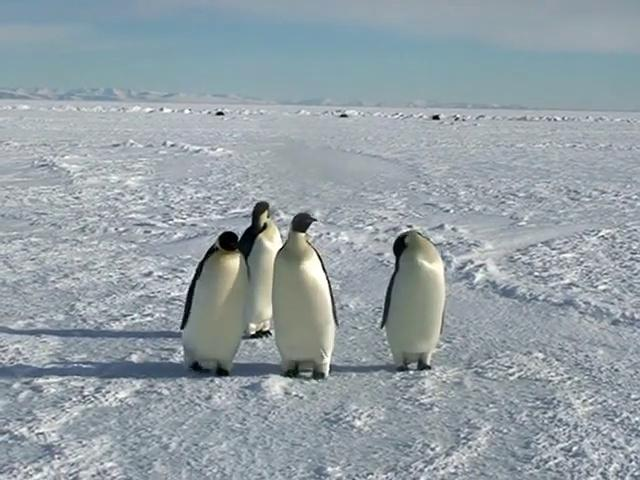animal: (381, 230, 444, 369)
